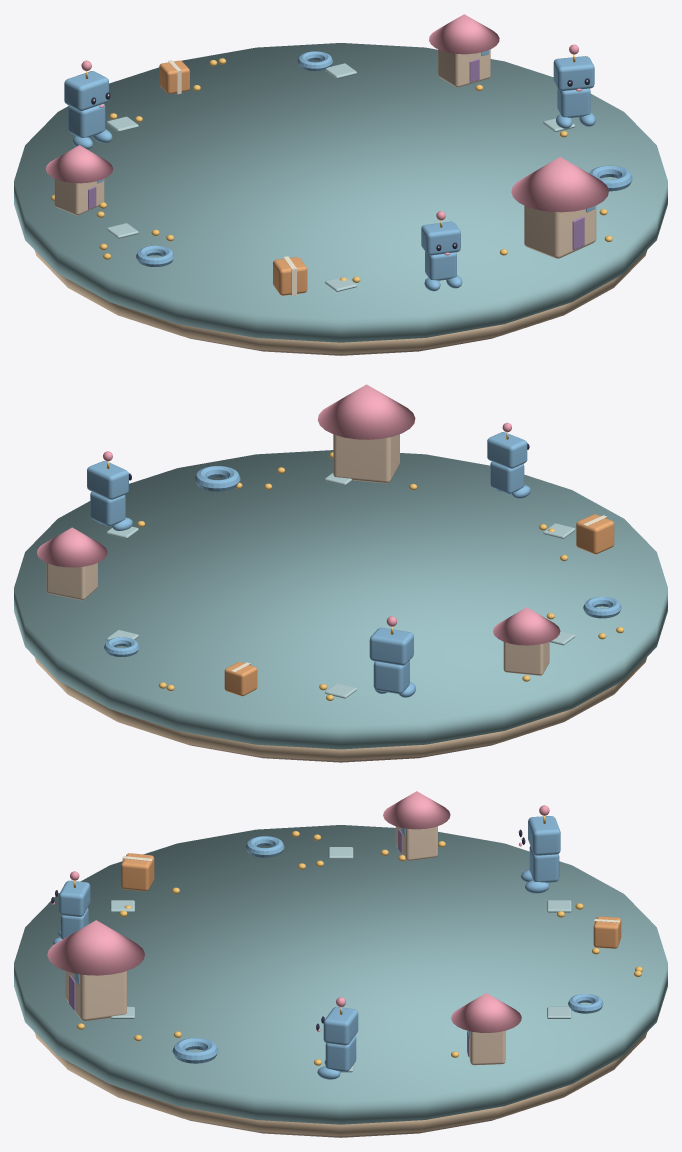
File: world.glb
3 views of the same model, one above another, from view 1: azimuth 30°, elevation 25°; view 2: azimuth 150°, elevation 25°; view 3: azimuth 270°, elevation 25° (orthographic).
Parts seen in each view (by area): view 1: Cone, house.003, Cone.001, house.001, house.002, robot.002, robot.001, robot.003, parcel.002, parcel.001, gear.003, gear.002 (+2 smaller); view 2: Cone, Cone.001, house.003, house.001, house.002, robot.002, robot.001, robot.003, parcel.002, parcel.001, gear.003, gear.002 (+2 smaller); view 3: Cone, Cone.001, house.003, house.001, house.002, robot.002, robot.001, robot.003, parcel.002, gear.003, parcel.001, gear.002 (+2 smaller).
Part boxes in pixels (left/top/right/bottom): Cone: left=14, top=43, right=667, bottom=342; house.003: left=511, top=157, right=608, bottom=258; Cone.001: left=34, top=250, right=647, bottom=354; house.001: left=429, top=14, right=499, bottom=87; house.002: left=45, top=145, right=113, bottom=215; robot.002: left=64, top=60, right=112, bottom=149; robot.001: left=553, top=44, right=595, bottom=128; robot.003: left=421, top=211, right=462, bottom=291; parcel.002: left=273, top=256, right=307, bottom=296; parcel.001: left=159, top=60, right=189, bottom=94; gear.003: left=589, top=165, right=632, bottom=191; gear.002: left=136, top=245, right=174, bottom=266; Cone: left=14, top=450, right=667, bottom=749; Cone.001: left=34, top=657, right=647, bottom=761; house.003: left=317, top=384, right=415, bottom=483; house.001: left=37, top=527, right=107, bottom=600; house.002: left=493, top=607, right=560, bottom=675; robot.002: left=369, top=616, right=415, bottom=697; robot.001: left=87, top=451, right=132, bottom=530; robot.003: left=487, top=422, right=530, bottom=498; parcel.002: left=576, top=514, right=614, bottom=554; parcel.001: left=224, top=662, right=257, bottom=696; gear.003: left=195, top=466, right=240, bottom=491; gear.002: left=583, top=597, right=621, bottom=618; Cone: left=14, top=825, right=667, bottom=1124; Cone.001: left=34, top=1032, right=647, bottom=1136; house.003: left=47, top=920, right=144, bottom=1021; house.001: left=451, top=993, right=521, bottom=1065; house.002: left=383, top=791, right=450, bottom=860; robot.002: left=518, top=805, right=560, bottom=893; robot.001: left=316, top=997, right=358, bottom=1079; robot.003: left=51, top=871, right=90, bottom=944; parcel.002: left=121, top=853, right=154, bottom=891; gear.003: left=172, top=1038, right=218, bottom=1063; parcel.001: left=593, top=916, right=621, bottom=948; gear.002: left=246, top=836, right=284, bottom=857.
Size of the model in its own units: 9.6 by 2.23 by 9.6.
